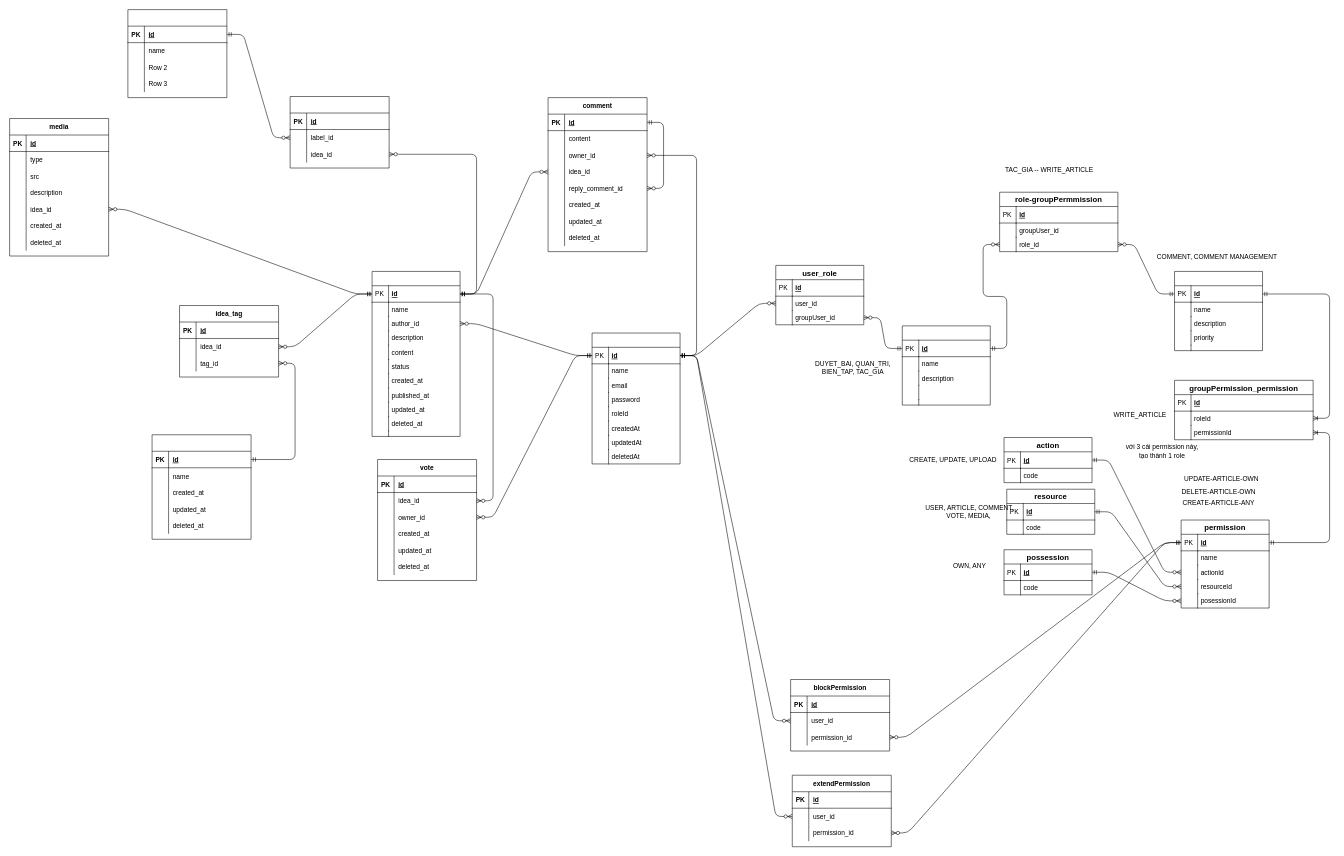
This 1344x856 diagram has some shape labels left out. Here are the shapes that lost their labels. From the top down, the box of each, then its label:
(127, 9, 227, 98): label
(290, 96, 389, 168): label_idea
(1174, 271, 1263, 351): templatePermisison
(372, 271, 460, 436): idea
(902, 325, 990, 405): role
(592, 332, 680, 464): user
(152, 434, 251, 539): tag
